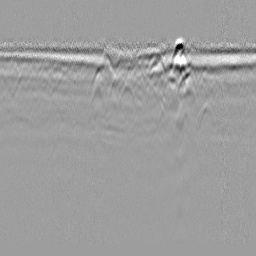cavity: (115, 79, 138, 116)
